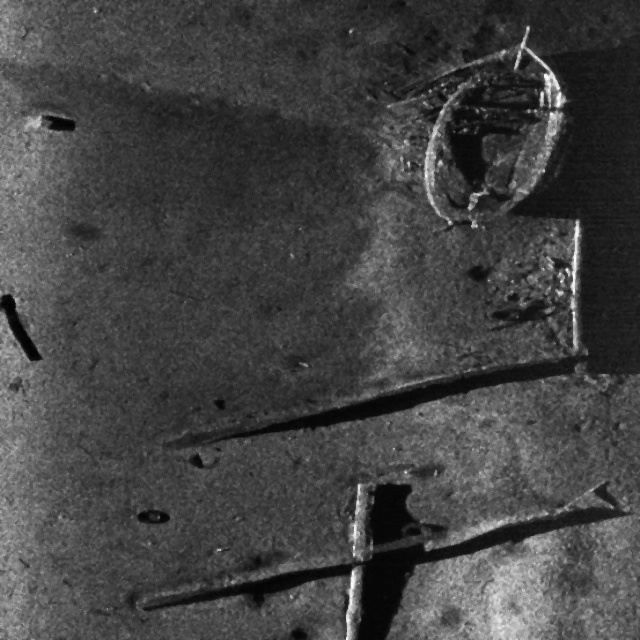Ship: (378, 23, 587, 261)
